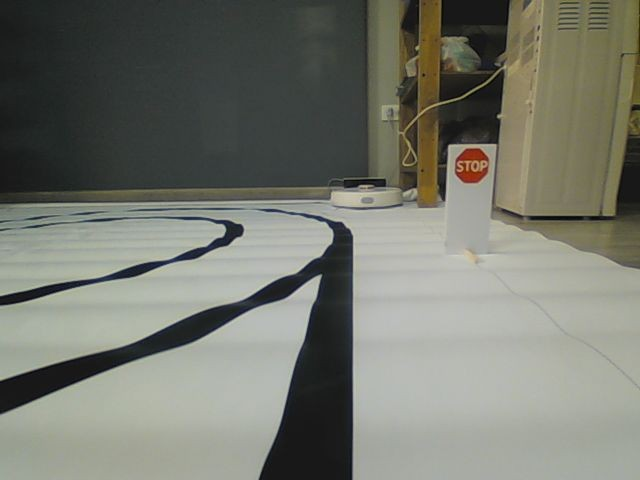Stop: (453, 147, 490, 183)
